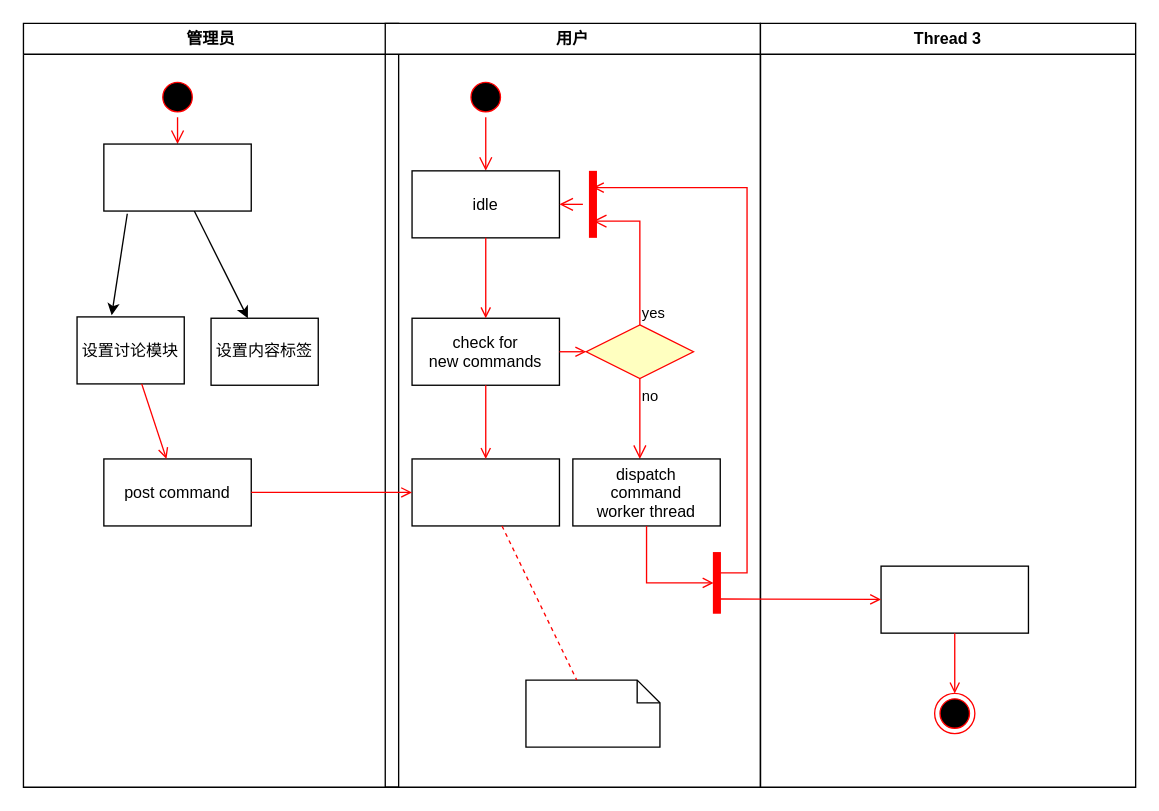
The diagram is 1159 pixels wide and 811 high, and some of its shapes have lost their labels. The centre of each missing label's shape, as x and y in pixels:
command queue: point 485,492
critical section: point 592,713
process command: point 954,599
queue empty: point 639,351
管理登陆: point 177,177
